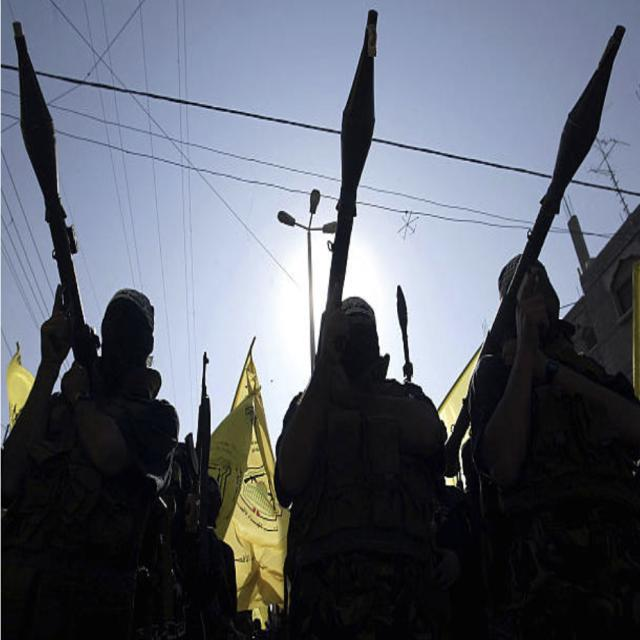bazooka: (438, 17, 638, 456), (300, 4, 387, 490), (11, 13, 99, 387)
